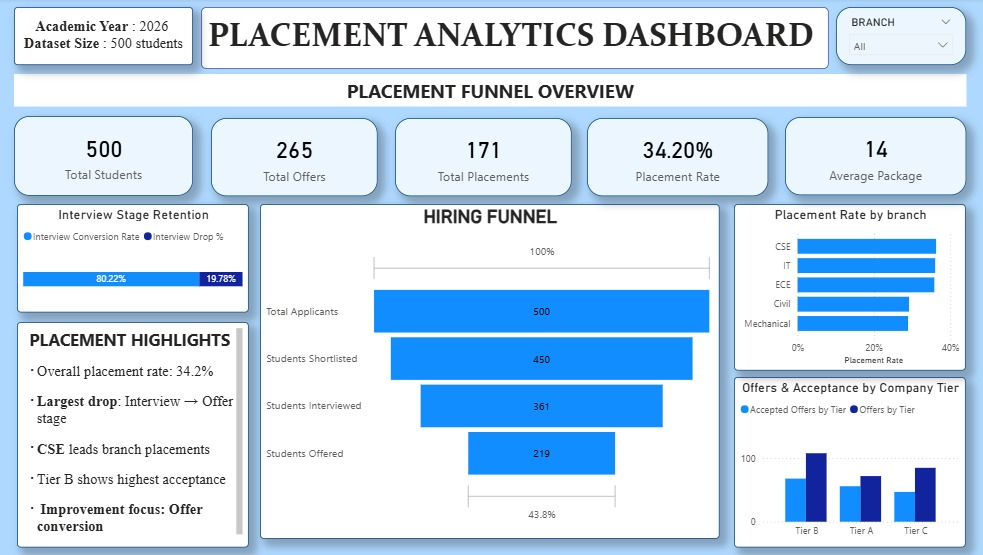

This screenshot's page, from the dashboard's own definition file:
{"tool":"powerbi","page":{"name":"Placement Funnel Overview","canvas":[1280,720],"ordinal":0},"visuals":[{"type":"card","fields":{"Values":["applications_cleaned.Total Applicants"]},"box":[21.7,151.8,231.3,102.7],"z":0},{"type":"card","fields":{"Values":["applications_cleaned.Total Offers"]},"box":[276.1,154.7,215.4,101.2],"z":1000},{"type":"card","fields":{"Values":["applications_cleaned.Students Placed"]},"box":[513.3,154.7,228.4,101.2],"z":2000},{"type":"textbox","box":[263.1,11.6,809.6,79.5],"z":3000},{"type":"funnel","title":"HIRING FUNNEL ","fields":{"Y":["applications_cleaned.Total Applicants","applications_cleaned.Shortlisted Count","applications_cleaned.Interviewed Count1","applications_cleaned.Offered Count"]},"box":[339.8,266,592.8,432.3],"z":4000},{"type":"clusteredColumnChart","title":"Offers & Acceptance by Company Tier","fields":{"Category":["companies_cleaned_scaled.tier"],"Y":["applications_cleaned.Accepted Offers by Tier","applications_cleaned.Offers by Tier"]},"box":[951.3,488.7,299.3,219.8],"z":5000},{"type":"hundredPercentStackedBarChart","title":"Interview Stage Retention","fields":{"Y":["applications_cleaned.Interview Conversion Rate","applications_cleaned.Interview Drop %"]},"box":[26,266,299.3,140.2],"z":6000},{"type":"textbox","box":[26,417.8,299.3,290.6],"z":7000},{"type":"textbox","box":[21.7,98.3,1228.9,41.9],"z":8000},{"type":"card","fields":{"Values":["applications_cleaned.Placement Rate"]},"box":[761.9,154.7,234.2,101.2],"z":9000},{"type":"clusteredBarChart","fields":{"Y":["applications_cleaned.Placement Rate"],"Category":["students_cleaned_scaled.branch"]},"box":[951.3,266,299.3,215.4],"z":10000},{"type":"slicer","fields":{"Values":["students_cleaned_scaled.branch"]},"box":[1082.9,11.6,167.7,75.2],"z":11000},{"type":"card","fields":{"Values":["applications_cleaned.Average Package"]},"box":[1016.4,153.3,234.2,101.2],"z":13000},{"type":"textbox","box":[21.7,11.6,231.3,75.2],"z":13001}]}

Visuals, with their boxes in screenshot pixels (x1, y1, x2, y2), scaled from the page's 1280x720 canvas onto the 983x555 screenshot:
card - applications_cleaned.Total Applicants: 17, 117, 194, 196
card - applications_cleaned.Total Offers: 212, 119, 377, 197
card - applications_cleaned.Students Placed: 394, 119, 570, 197
textbox: 202, 9, 824, 70
"HIRING FUNNEL " funnel: 261, 205, 716, 538
"Offers & Acceptance by Company Tier" clusteredColumnChart: 731, 377, 960, 546
"Interview Stage Retention" hundredPercentStackedBarChart: 20, 205, 250, 313
textbox: 20, 322, 250, 546
textbox: 17, 76, 960, 108
card - applications_cleaned.Placement Rate: 585, 119, 765, 197
clusteredBarChart - applications_cleaned.Placement Rate x students_cleaned_scaled.branch: 731, 205, 960, 371
slicer - students_cleaned_scaled.branch: 832, 9, 960, 67
card - applications_cleaned.Average Package: 781, 118, 960, 196
textbox: 17, 9, 194, 67
